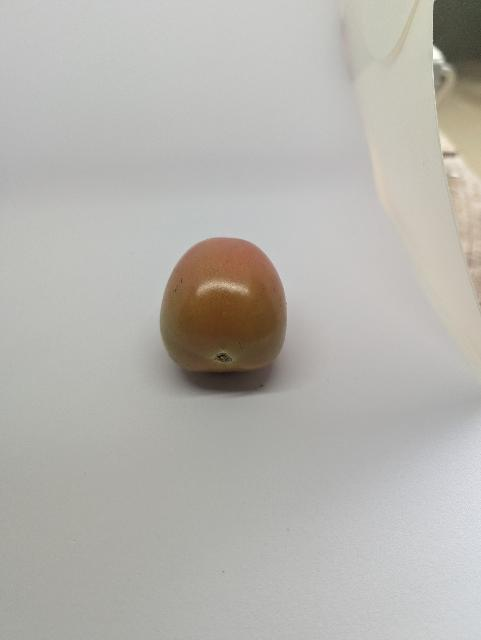turning: (149, 230, 299, 384)
